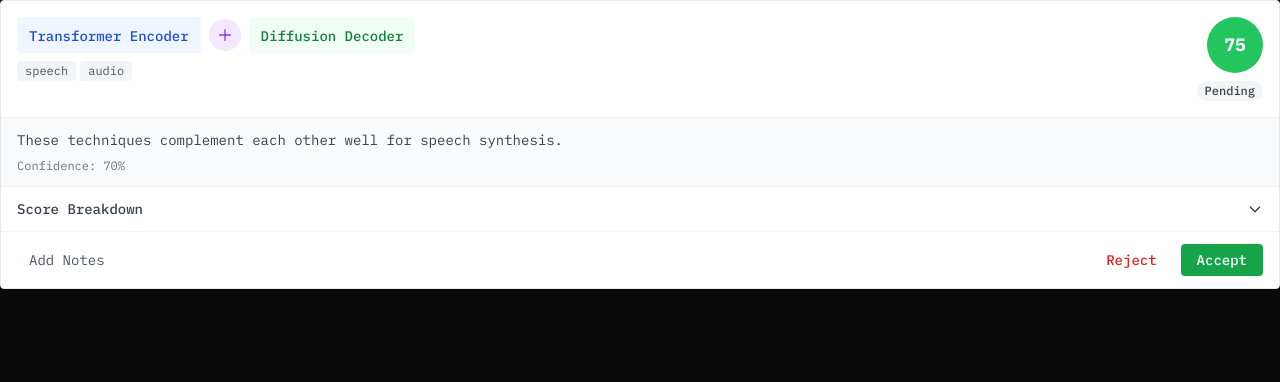
Test: SynergyCard › should toggle notes input
Click the button "Add Notes". click: {"x": 67, "y": 260}
box: [17,244,117,276]
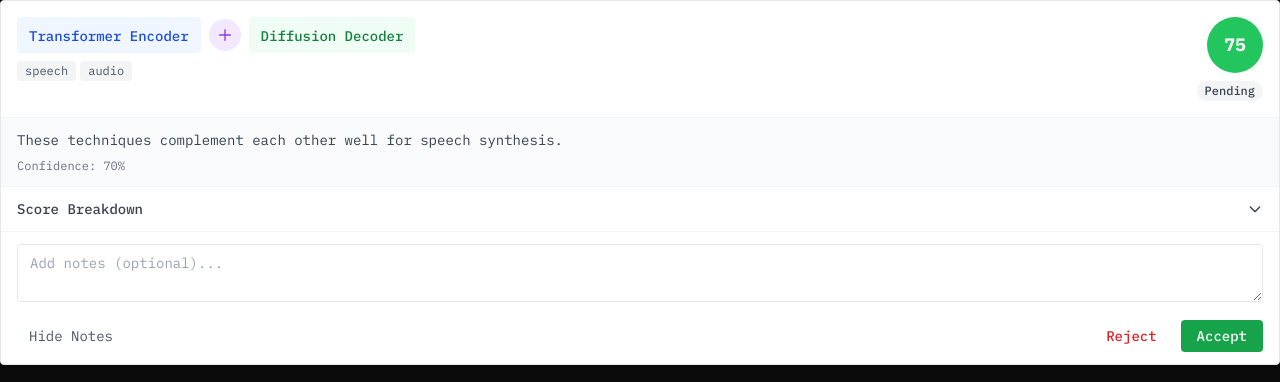
Expected: the text box with placeholder "Add notes (optional)..." is shown, [17,244,1263,302]
